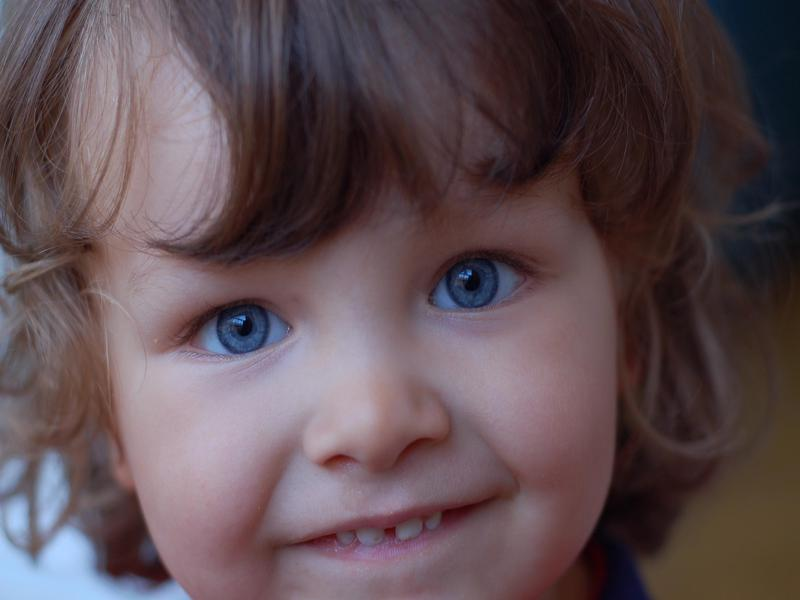person: (15, 1, 722, 600)
